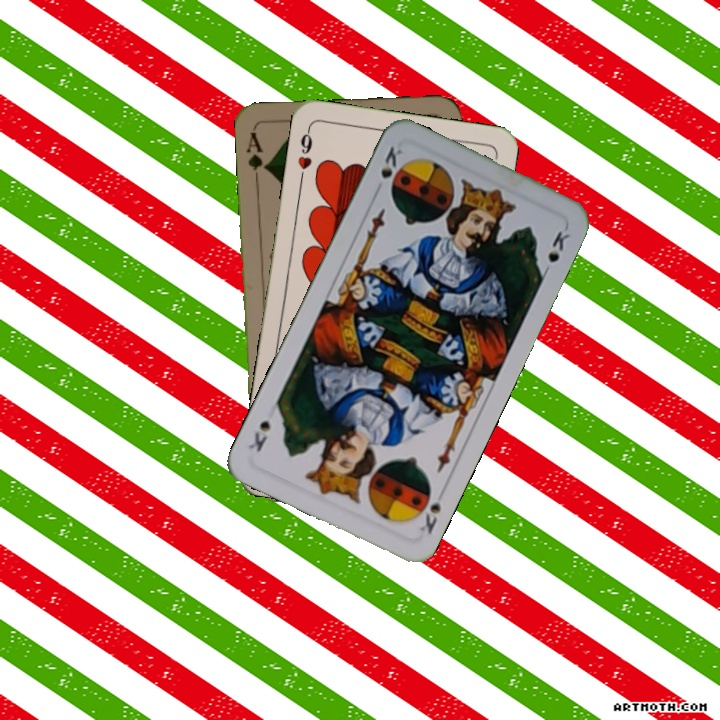GA: (242, 128, 270, 187)
H9: (293, 123, 315, 182)
SK: (370, 142, 405, 197), (410, 481, 444, 537)
